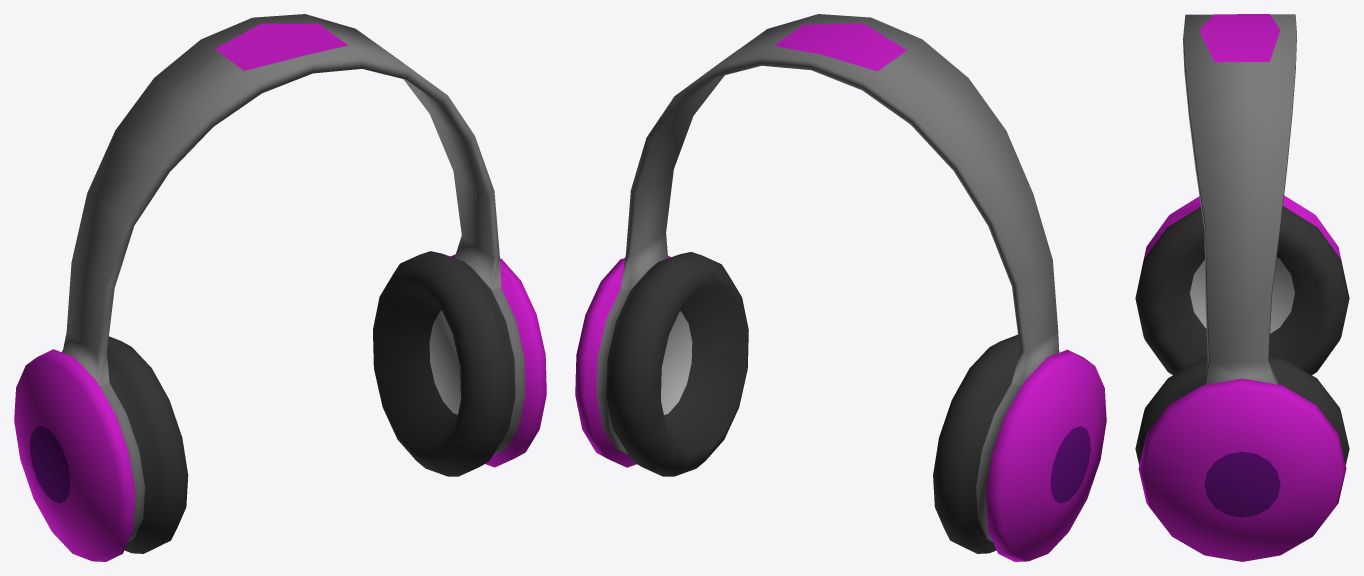
Rendered from headphones.glb.
3 views of the same model, side by side, from view 1: azimuth 30°, elevation 25°; view 2: azimuth 150°, elevation 25°; view 3: azimuth 270°, elevation 25° (orthographic). The views are drawn at different scales.
Visible parts, largest first — view 1: head phones; view 2: head phones; view 3: head phones.
Boxes of the visible parts, x1,y1,x2,y2 form: head phones: [14, 14, 546, 561]; head phones: [575, 14, 1106, 561]; head phones: [1135, 14, 1349, 561].
Bounding box in the file's own units: 12.93 × 12.44 × 5.47.
